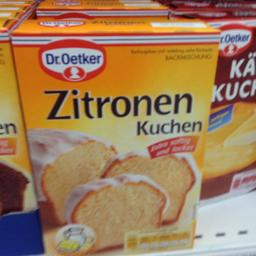cake: (7, 15, 223, 255)
